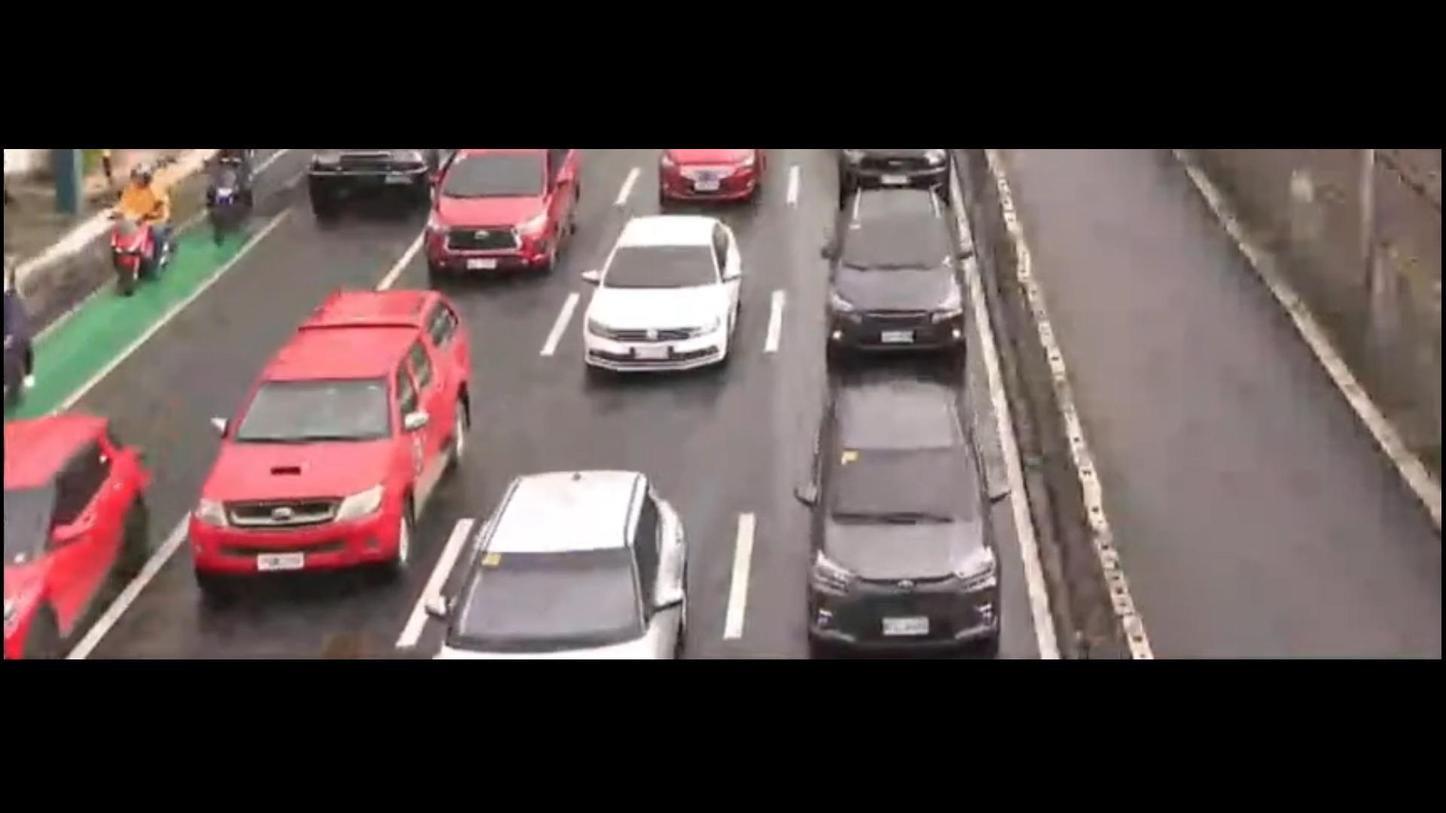Motorcycle: (83, 145, 173, 290), (203, 151, 258, 241)
SUV: (186, 282, 473, 574), (779, 367, 1005, 653), (422, 470, 702, 655), (0, 414, 145, 670), (800, 179, 968, 356), (429, 149, 578, 284)
Sedan: (572, 220, 751, 373)
